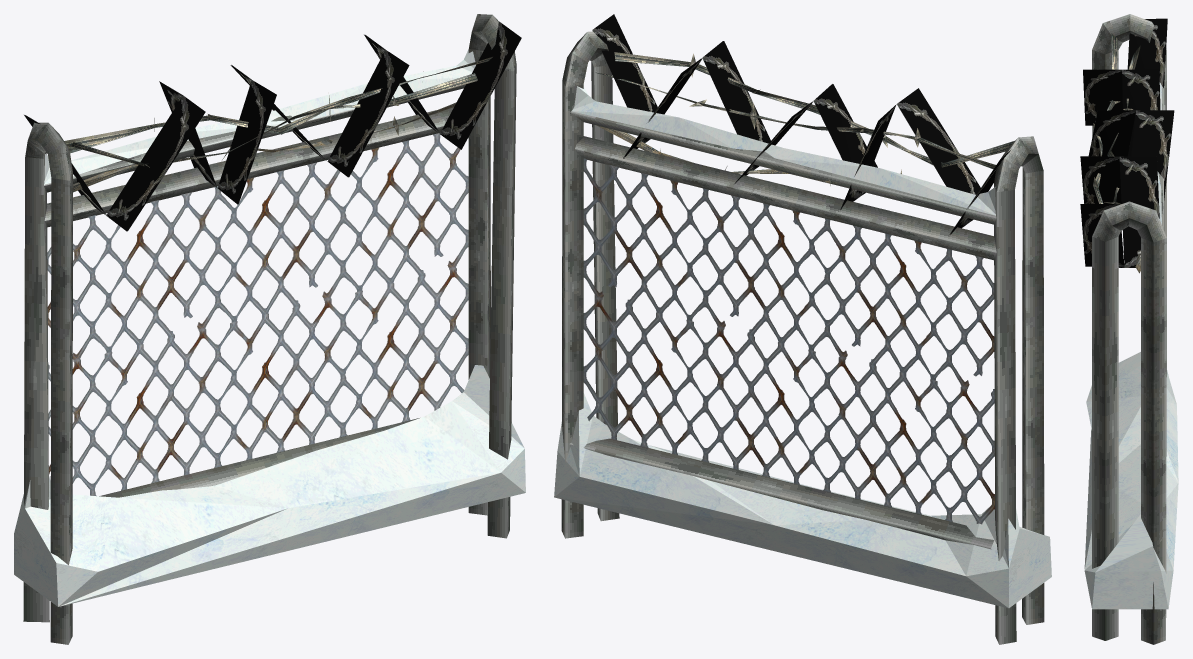
The model's file is C1SMWFHIGHFENCEH.obj.
3 views of the same model, side by side, from view 1: azimuth 30°, elevation 25°; view 2: azimuth 150°, elevation 25°; view 3: azimuth 270°, elevation 25° (orthographic). The views are drawn at different scales.
Visible parts, largest first — view 1: Node 0; view 2: Node 0; view 3: Node 0.
Boxes of the visible parts, bbox=[...] form: Node 0: bbox=[14, 14, 525, 644]; Node 0: bbox=[554, 14, 1051, 644]; Node 0: bbox=[1080, 14, 1178, 644].
Size of the model in its own units: 5.63 by 5.81 by 1.18.
Materials: 5 (5 with a texture image).
